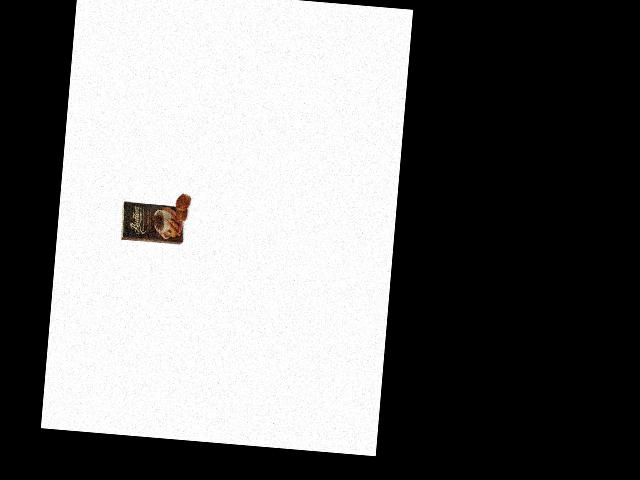chocolate: (117, 195, 188, 247)
